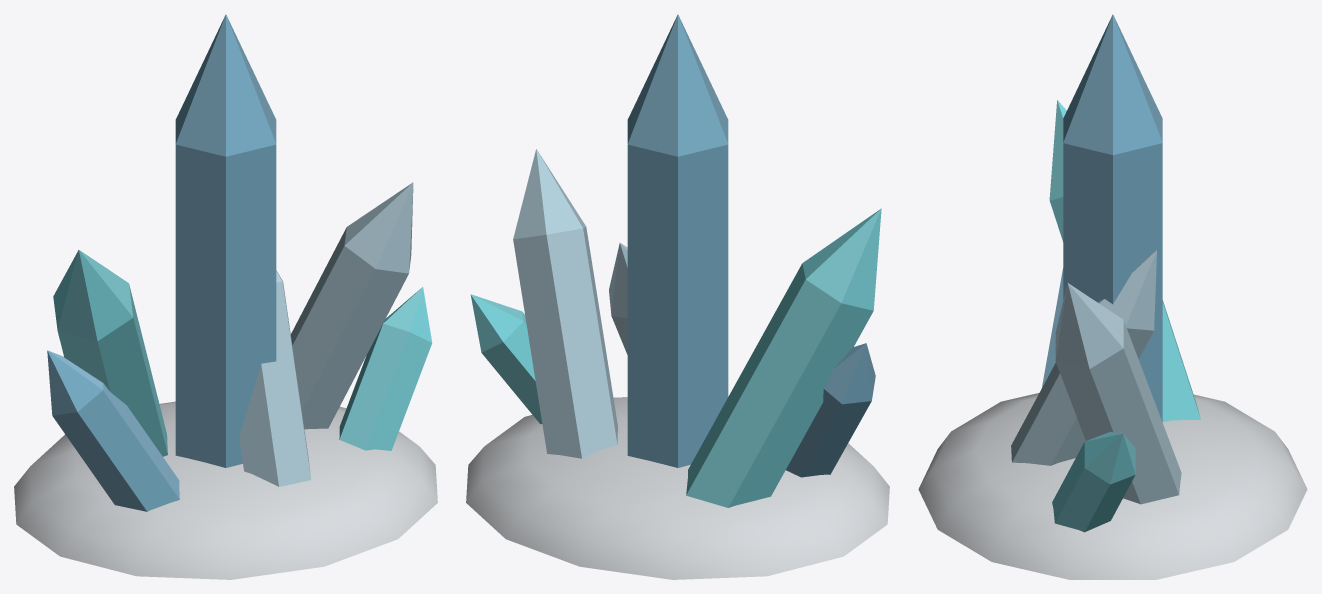
Rendered from ice-deco3.glb.
3 views of the same model, side by side, from view 1: azimuth 30°, elevation 25°; view 2: azimuth 150°, elevation 25°; view 3: azimuth 270°, elevation 25° (orthographic).
Parts seen in each view (by area): view 1: ice-deco3; view 2: ice-deco3; view 3: ice-deco3.
Boxes of the visible parts, left/top/right/bottom form: ice-deco3: left=14, top=14, right=437, bottom=579; ice-deco3: left=466, top=14, right=889, bottom=579; ice-deco3: left=918, top=14, right=1307, bottom=579.
Size of the model in its own units: 2.63 by 3.16 by 2.3.
